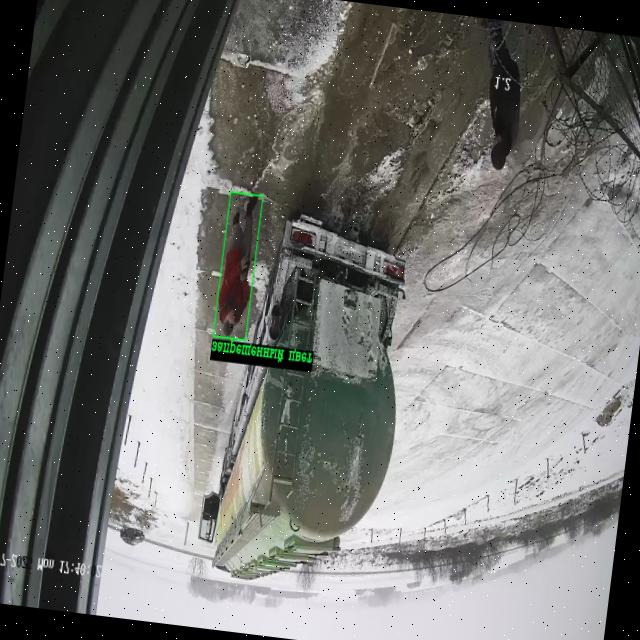Person: (486, 19, 520, 170)
Red uniform: (218, 197, 256, 335)
